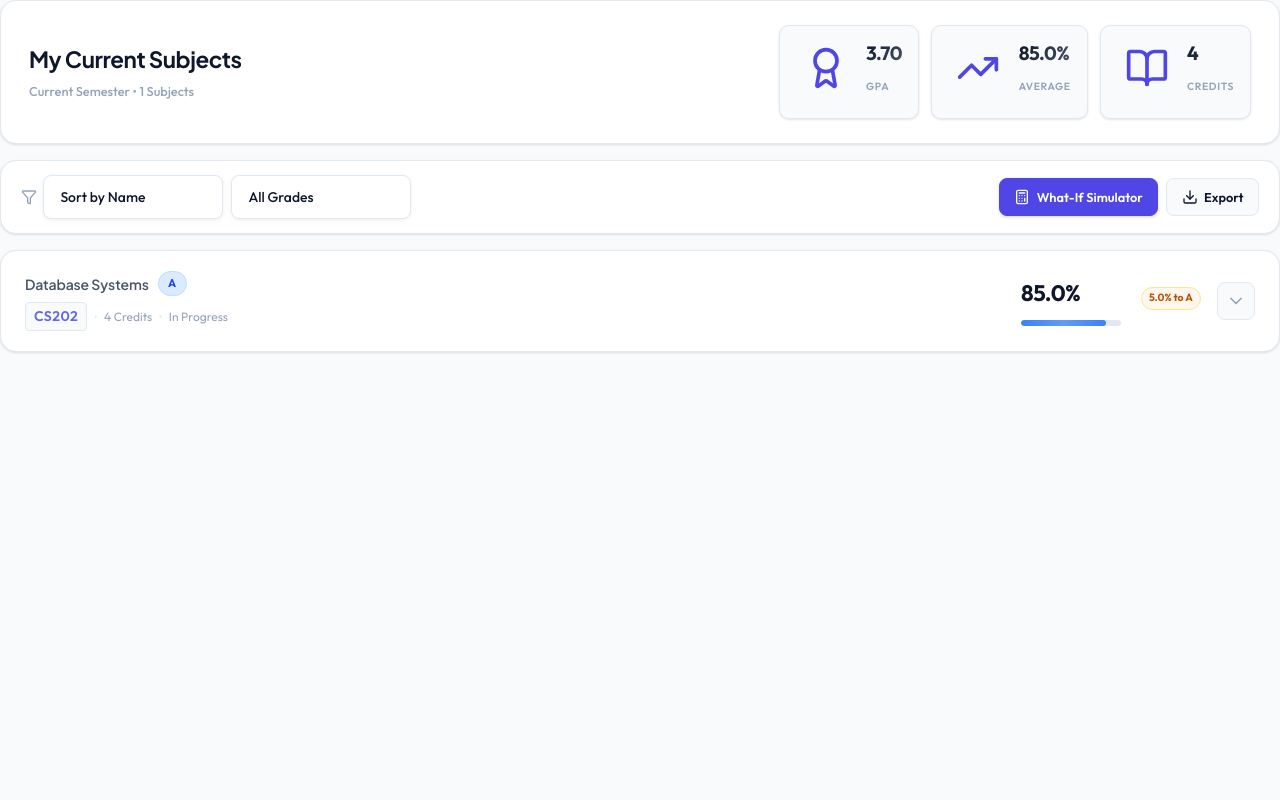
Test: GradesTab Component › expands subject to show breakdown
Click the heading "Database Systems".
click(87, 284)  # box x1=25 y1=272 x2=149 y2=295
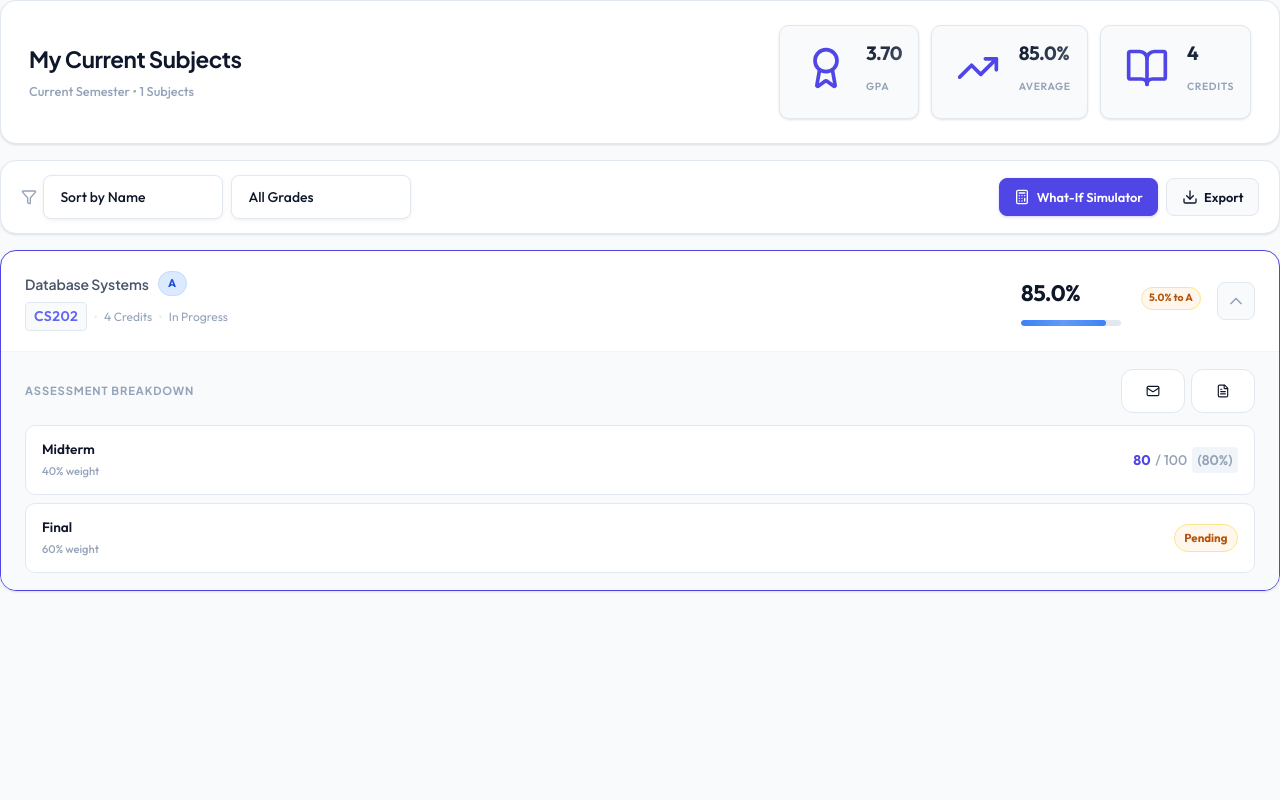
Result: the heading "Assessment Breakdown" is shown at x1=25 y1=382 x2=194 y2=400
Result: the text "Midterm" is shown at x1=42 y1=440 x2=95 y2=458
Result: the text "40% weight" is shown at x1=42 y1=464 x2=99 y2=478
